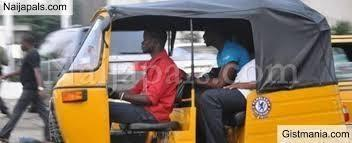keke: (44, 2, 349, 143)
